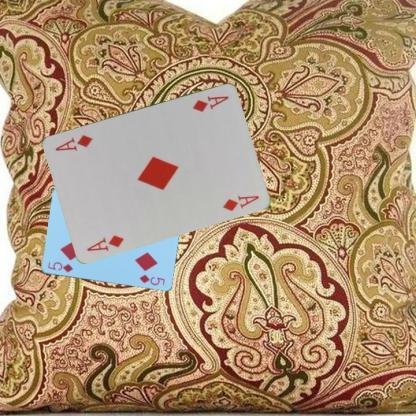5d: (45, 260, 74, 274)
Ad: (189, 92, 230, 113), (84, 232, 126, 252)
